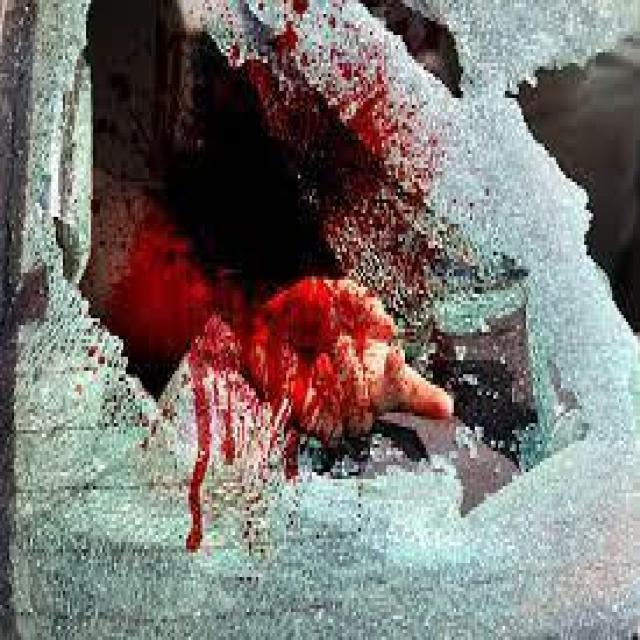flood: (80, 43, 430, 471)
